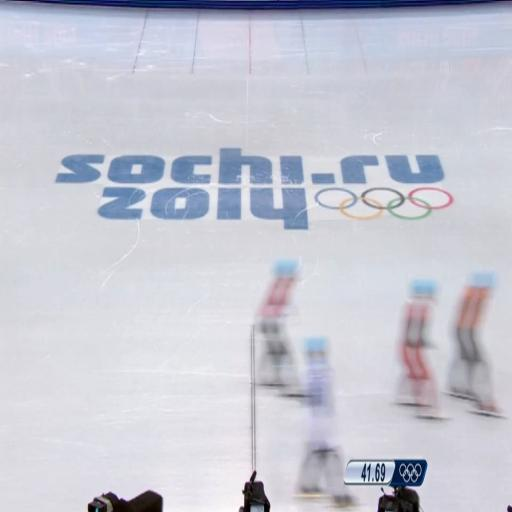Skater: (298, 337, 355, 507), (448, 273, 499, 415), (398, 280, 441, 418), (257, 260, 299, 395)
